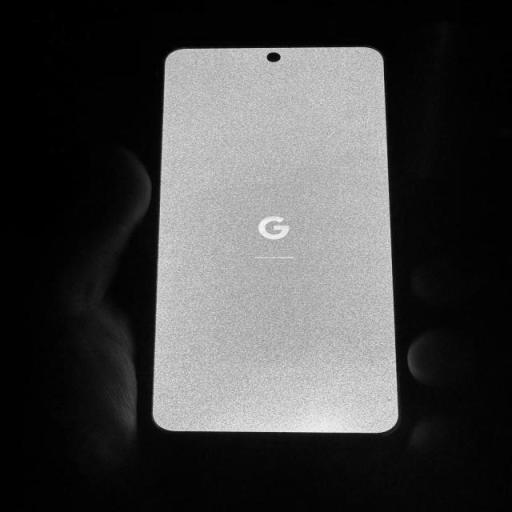phone: (135, 31, 402, 439)
